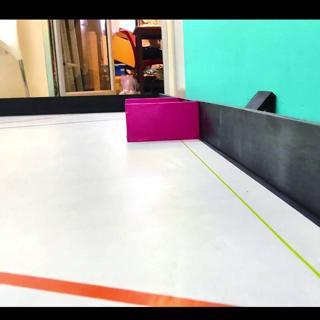xparking: (127, 106, 196, 139)
